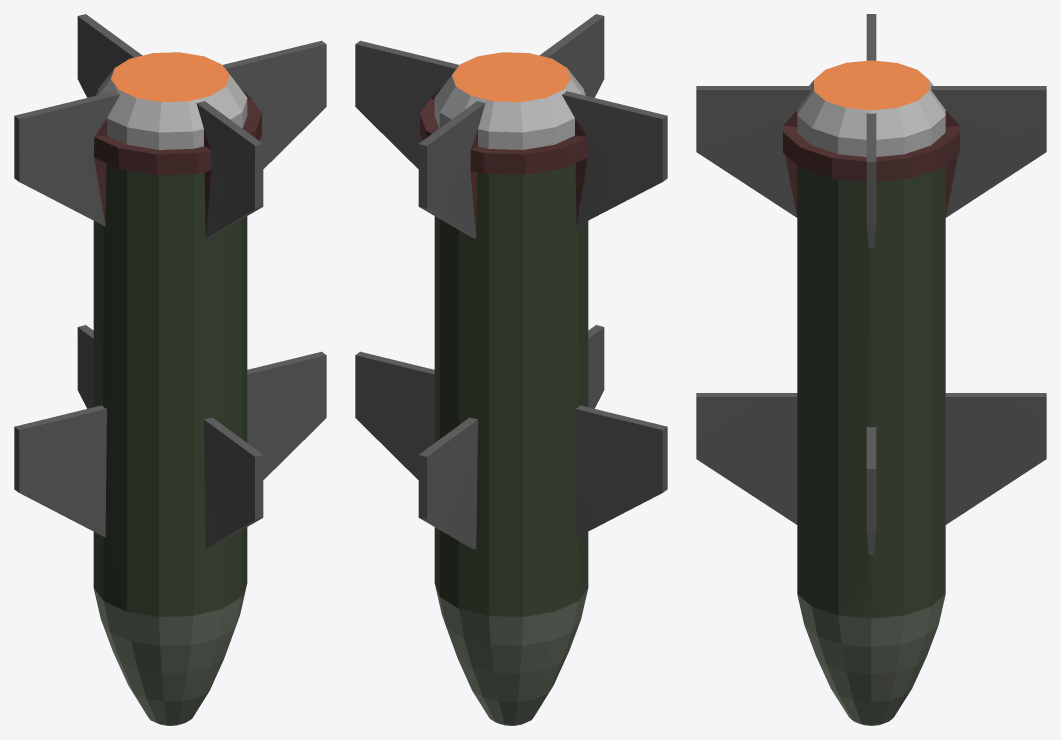
The model's file is Bomb ten lua.fbx.
3 renders of one model, left to right at view 1: azimuth 30°, elevation 25°; view 2: azimuth 150°, elevation 25°; view 3: azimuth 270°, elevation 25°, orthographic.
Parts seen in each view (by area): view 1: bomb_ten_lua_1; view 2: bomb_ten_lua_1; view 3: bomb_ten_lua_1.
Part boxes in pixels (box(x1,y1,x2,y2)): bomb_ten_lua_1: box(14, 14, 326, 725); bomb_ten_lua_1: box(355, 14, 667, 725); bomb_ten_lua_1: box(696, 14, 1046, 725).
Bounding box in the file's own units: 106 × 211 × 106.
Materials: 1 (1 with a texture image).
